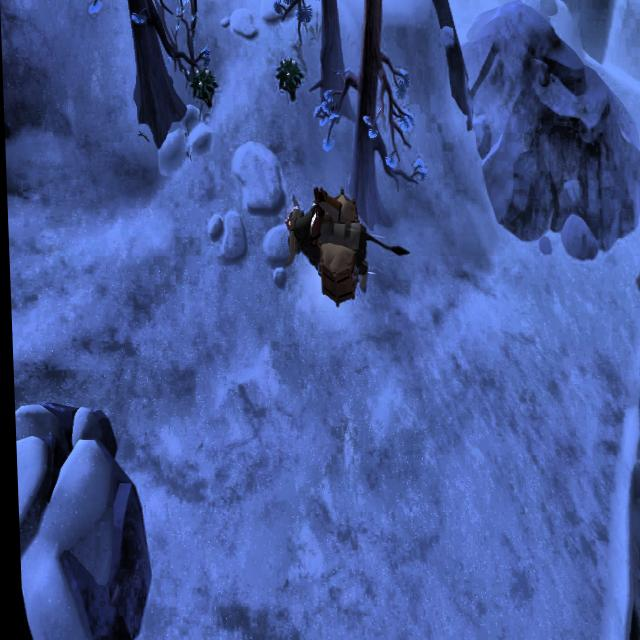fiber_t3: (191, 65, 220, 107), (278, 53, 304, 98)
